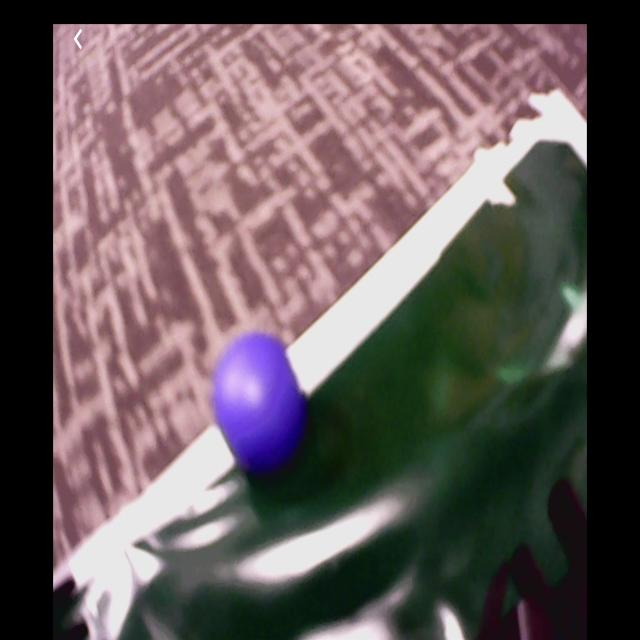ball: (214, 337, 301, 458)
